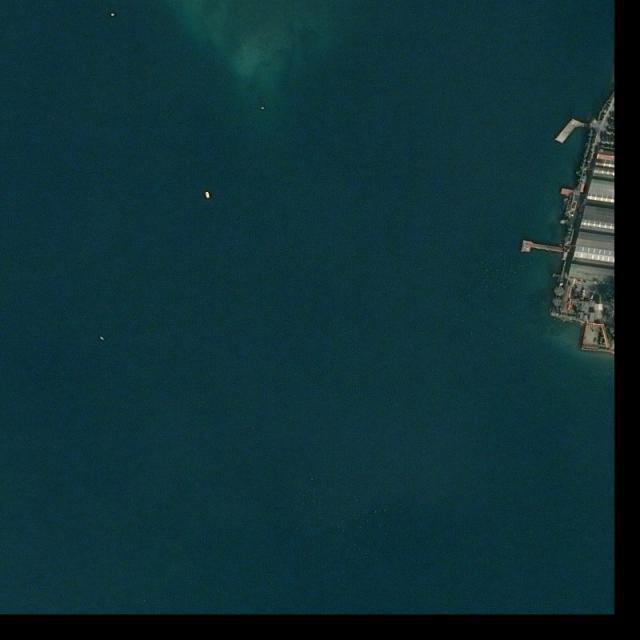ship: (99, 336, 106, 342), (206, 191, 211, 199)
